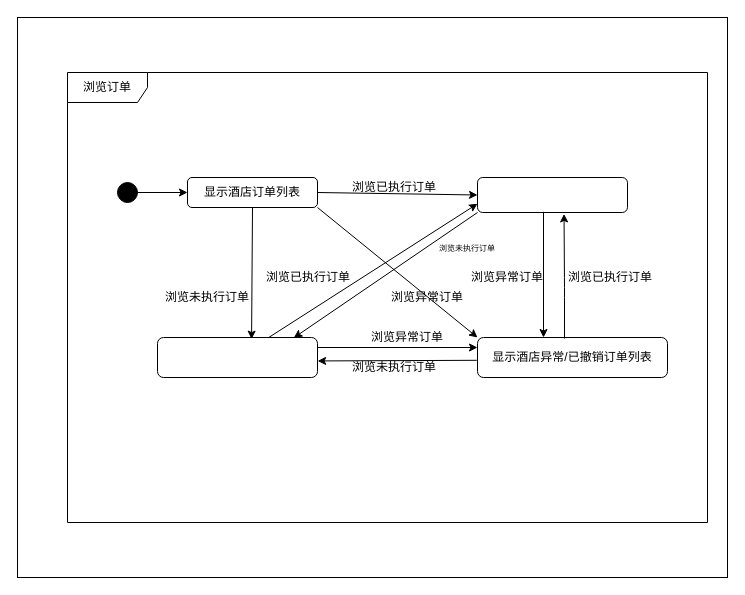
Some shapes in this 745 by 595 pixel diagram are drawn without their labels. Each missing label, with the centre of its shape:
显示酒店已执行订单列表: point (552, 194)
显示酒店未执行订单列表: point (237, 357)
